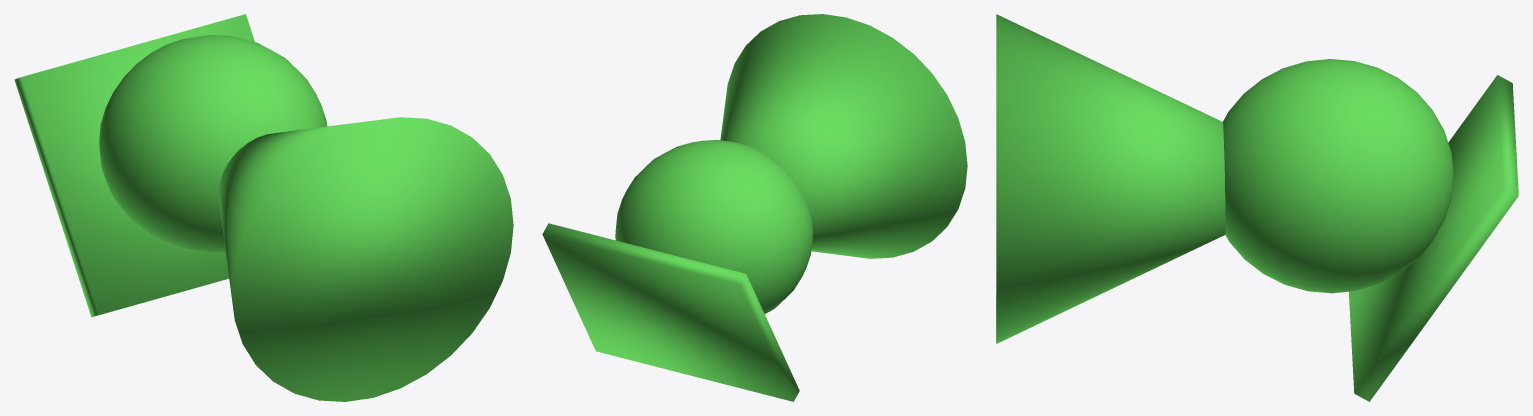
Rendered from spielfigur.fbx.
The picture shows the model from 3 angles, left to right: view 1: azimuth 30°, elevation 25°; view 2: azimuth 150°, elevation 25°; view 3: azimuth 270°, elevation 25°; orthographic projection. The views are drawn at different scales.
Visible parts, largest first — view 1: Sphere; view 2: Sphere; view 3: Sphere.
Boxes of the visible parts, x1,y1,x2,y2 form: Sphere: (14,14,513,401); Sphere: (542,14,967,401); Sphere: (996,14,1518,401).
Bounding box in the file's own units: 100 × 100 × 150.
